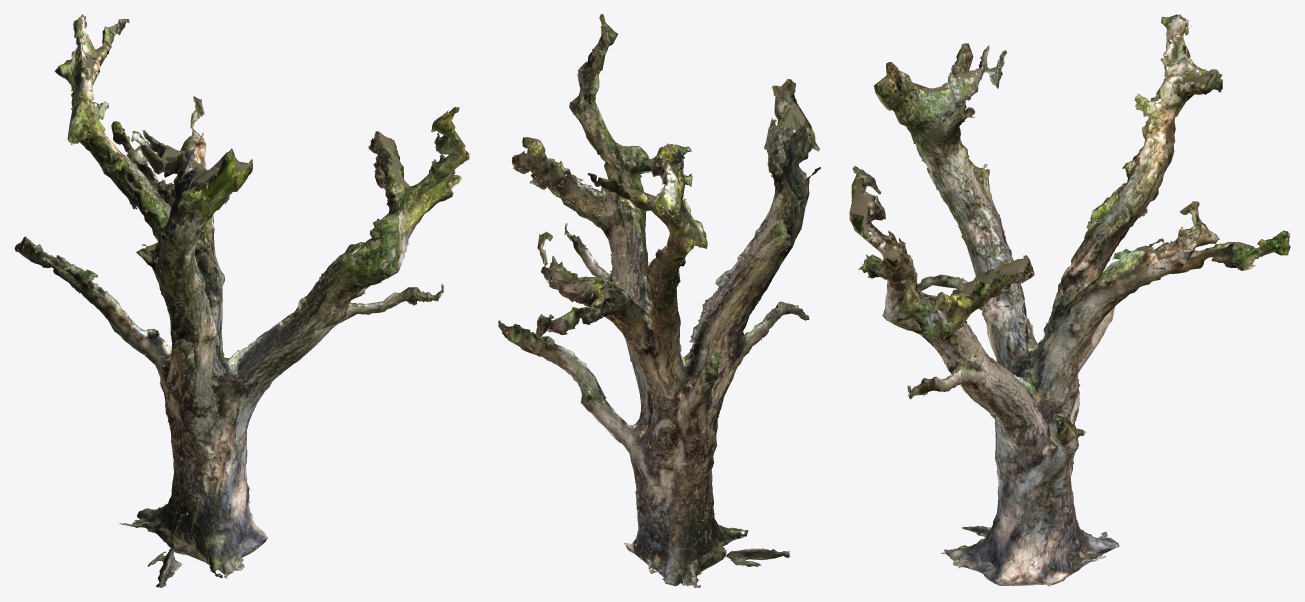
Rendered from tree.glb.
The picture shows the model from 3 angles, left to right: view 1: azimuth 30°, elevation 25°; view 2: azimuth 150°, elevation 25°; view 3: azimuth 270°, elevation 25°; orthographic projection. The views are drawn at different scales.
Visible parts, largest first — view 1: Object_2, Object_3; view 2: Object_3, Object_2; view 3: Object_2, Object_3.
Part boxes in pixels (box(x1,y1,x2,y2)): Object_2: box(14, 14, 469, 569); Object_3: box(15, 122, 389, 587); Object_3: box(499, 200, 796, 587); Object_2: box(498, 14, 820, 583); Object_2: box(849, 14, 1290, 585); Object_3: box(925, 191, 1288, 586).
Size of the model in its own units: 9.84 by 14.61 by 11.07.
1 material, 1 textured.
